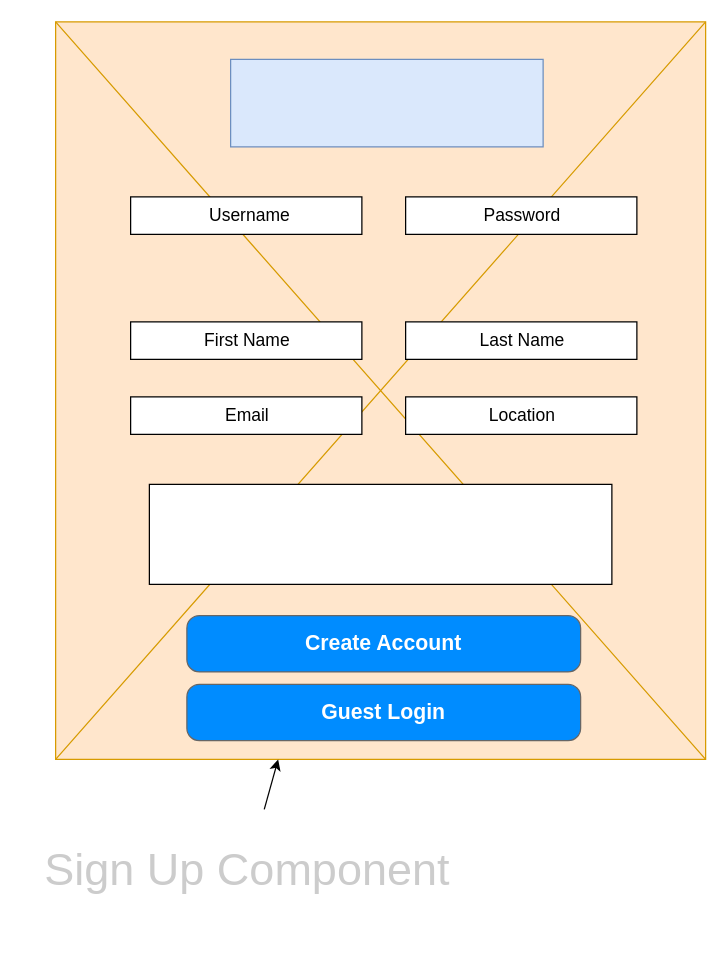
Some shapes in this 728 by 956 pixel diagram are drawn without their labels. Here are the shapes that lost their labels. From the top down, the centre of each, then its label:
At point (386, 102): "OnTap Logo".
At point (380, 533): "Description (About)".
